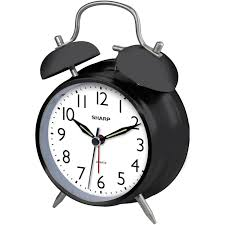alarm_clock: (31, 0, 190, 224)
